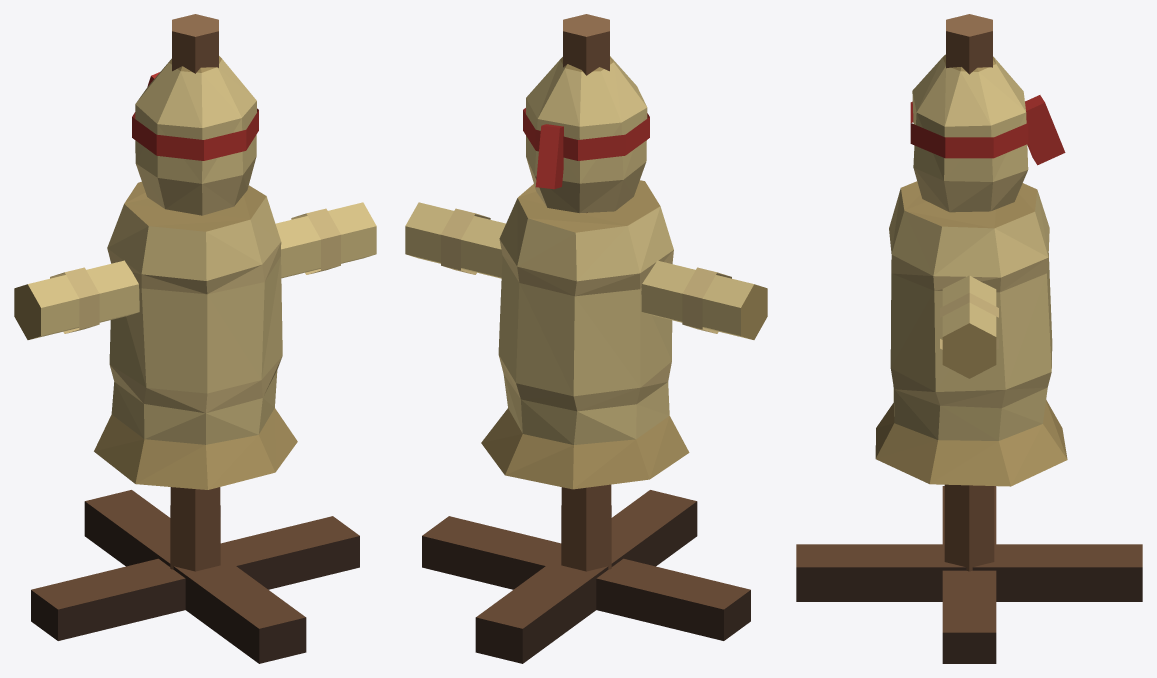
File: training_dummy.fbx
3 views of the same model, side by side, from view 1: azimuth 30°, elevation 25°; view 2: azimuth 150°, elevation 25°; view 3: azimuth 270°, elevation 25° (orthographic).
Parts seen in each view (by area): view 1: training_dummy; view 2: training_dummy; view 3: training_dummy.
Part boxes in pixels (x1,y1,x2,y2): training_dummy: [14, 14, 376, 663]; training_dummy: [405, 14, 767, 663]; training_dummy: [796, 14, 1142, 663].
Bounding box in the file's own units: 1 × 1.62 × 0.9.
